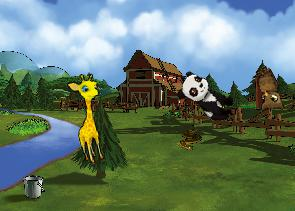giraffe: (65, 71, 115, 165)
owl: (243, 64, 289, 118)
panda: (173, 68, 240, 126)
